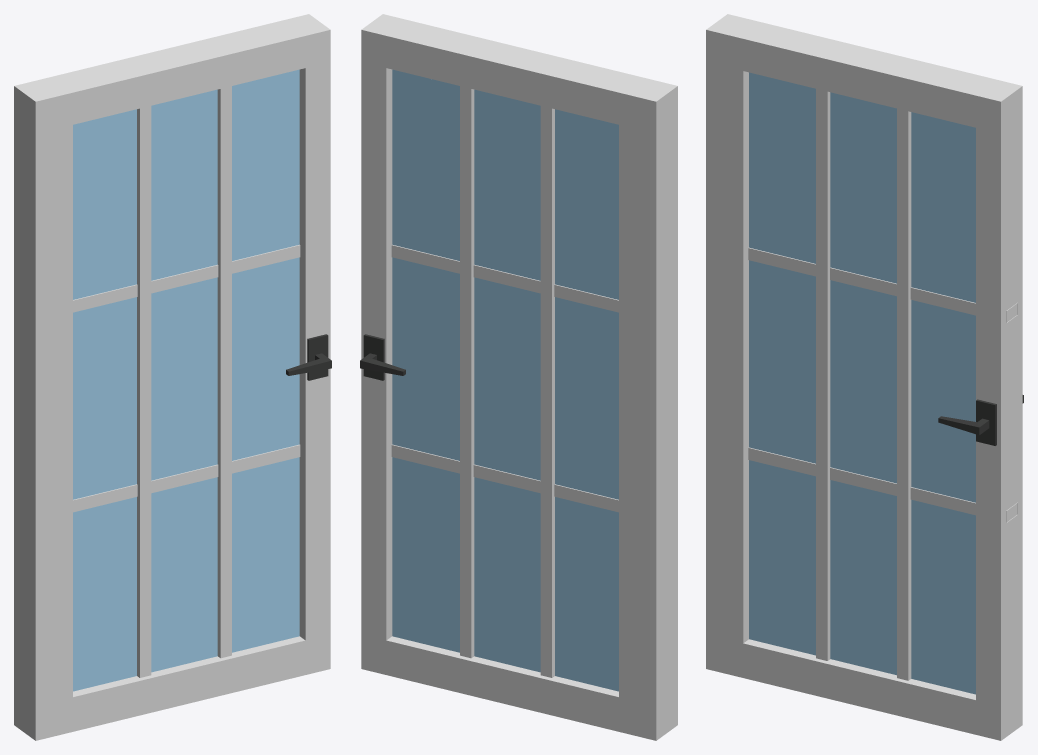
Rendered from SM_door_001.FBX.
3 renders of one model, left to right at view 1: azimuth 30°, elevation 25°; view 2: azimuth 150°, elevation 25°; view 3: azimuth 330°, elevation 25°, orthographic.
Visible parts, largest first — view 1: SM_door_001; view 2: SM_door_001; view 3: SM_door_001.
Boxes of the visible parts, x1=… form: SM_door_001: x1=14, y1=14, x2=331, y2=740; SM_door_001: x1=360, y1=14, x2=677, y2=740; SM_door_001: x1=706, y1=14, x2=1023, y2=740.
Size of the model in its own units: 110 by 28.59 by 227.
